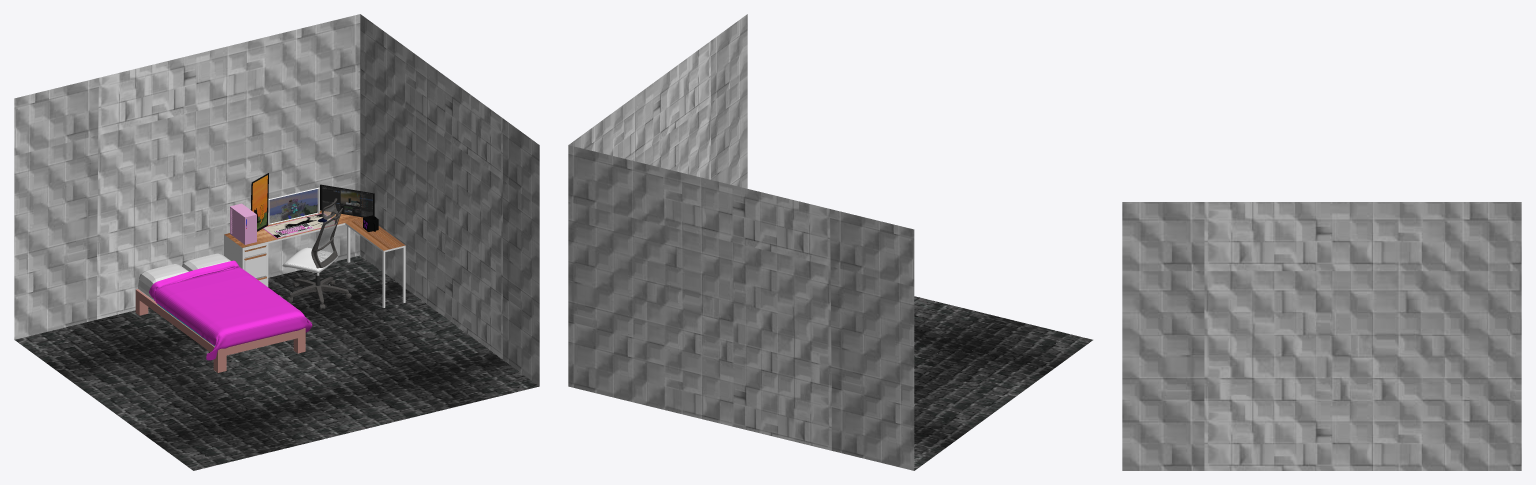
The model's file is SetUp_rosa.glb.
3 renders of one model, left to right at view 1: azimuth 30°, elevation 25°; view 2: azimuth 150°, elevation 25°; view 3: azimuth 270°, elevation 25°, orthographic. The views are drawn at different scales.
Visible parts, largest first — view 1: CasaEstructura, Sobrecama, Escritorio, BaseCama, MonitorPrincipal, Monitor3, BaseGabinete, Monitor2, almohadaR, Plane.006, Plane.012, MouseImagen (+1 smaller); view 2: CasaEstructura; view 3: CasaEstructura.
Part boxes in pixels (box(x1,y1,x2,y2)): CasaEstructura: box(14, 14, 539, 470); Sobrecama: box(149, 260, 312, 360); Escritorio: box(224, 210, 405, 307); BaseCama: box(135, 289, 305, 372); MonitorPrincipal: box(268, 187, 319, 224); Monitor3: box(320, 184, 374, 217); BaseGabinete: box(230, 203, 256, 244); Monitor2: box(250, 173, 268, 231); almohadaR: box(138, 264, 188, 300); Plane.006: box(282, 247, 337, 273); Plane.012: box(289, 277, 348, 304); MouseImagen: box(264, 213, 336, 237); CasaEstructura: box(568, 14, 1092, 470); CasaEstructura: box(1122, 202, 1521, 470).
Size of the model in its own units: 11.03 by 7.43 by 9.89.
32 materials, 12 textured.
